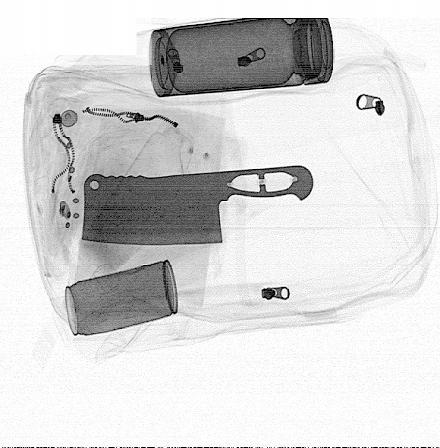Knife: (81, 165, 314, 246)
